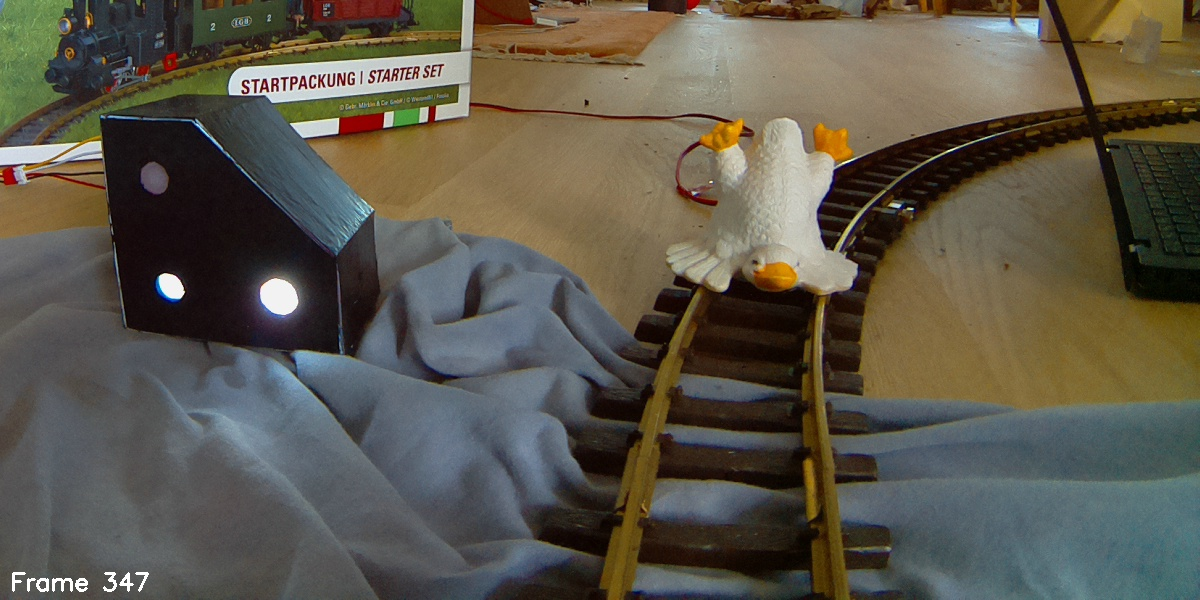Ente: (664, 114, 861, 300)
Halt: (102, 97, 373, 351)
